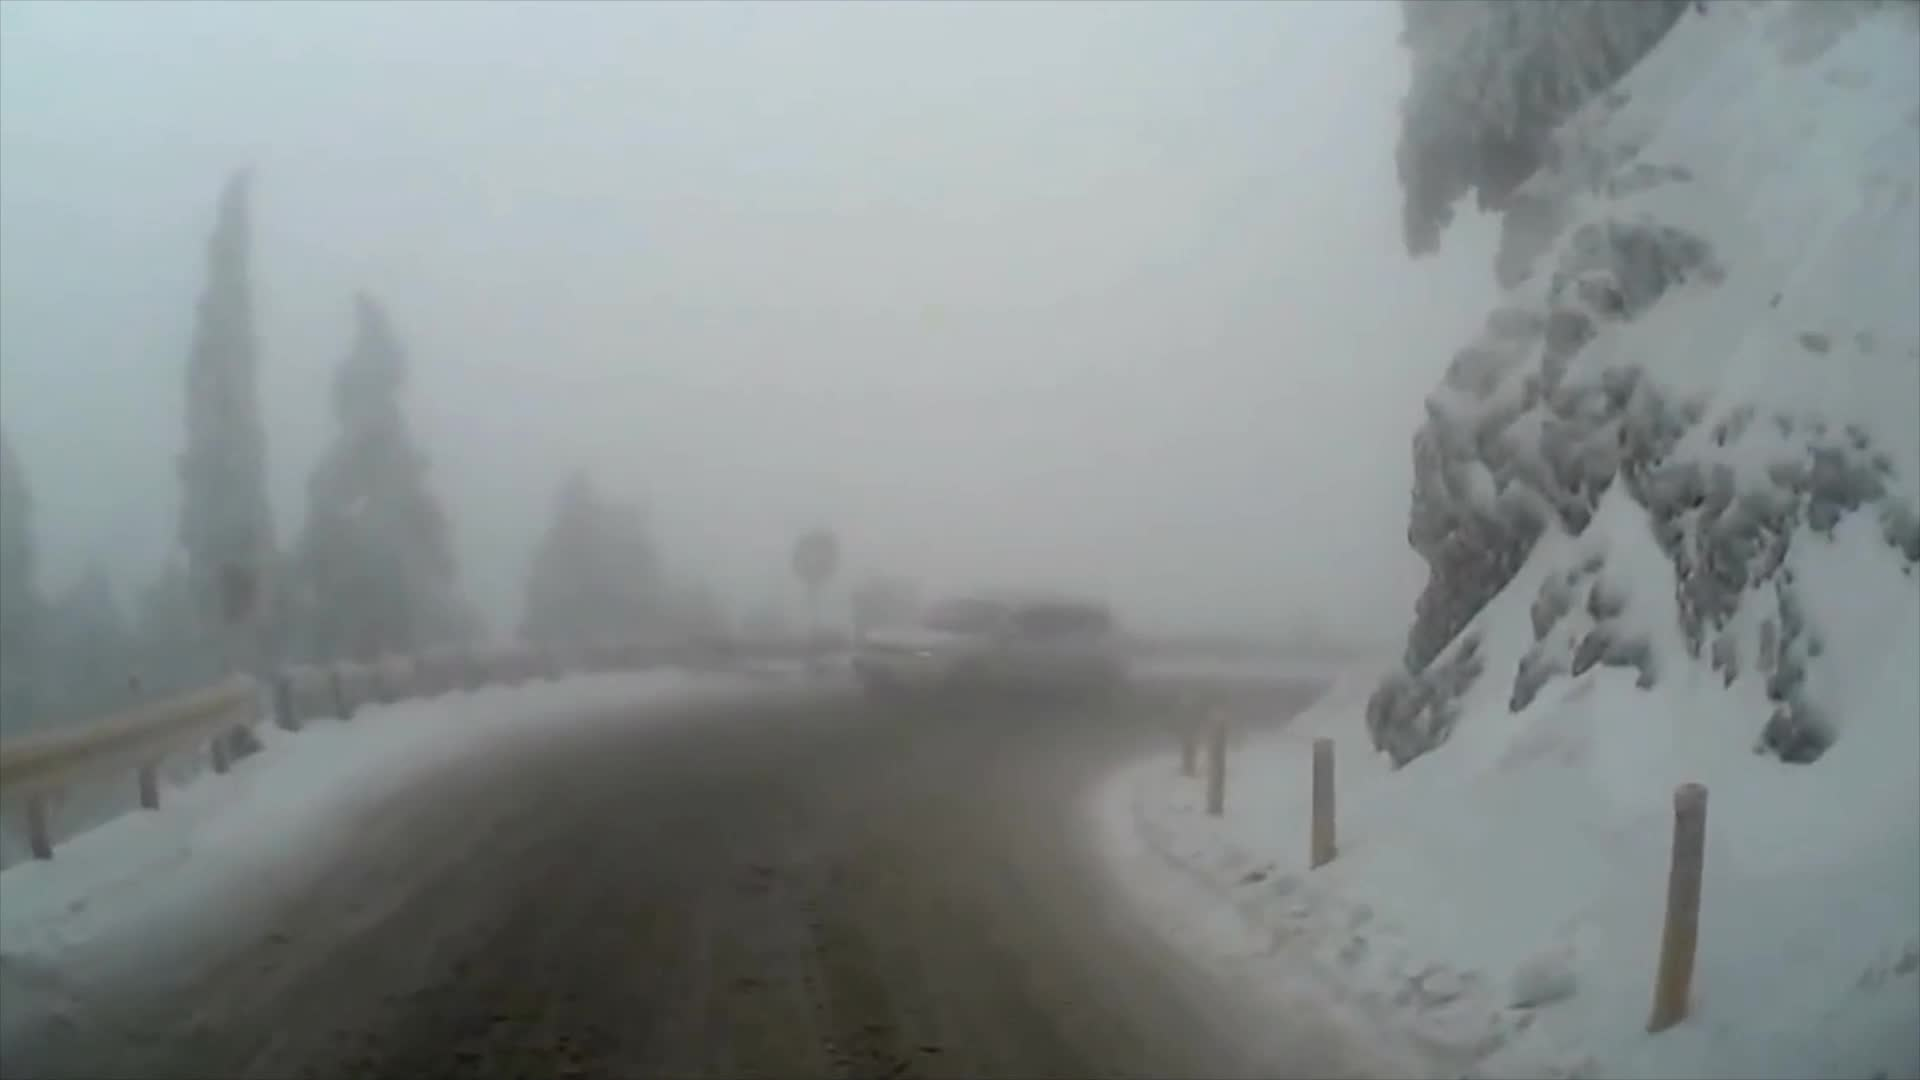vehicle: (845, 588, 1125, 720)
